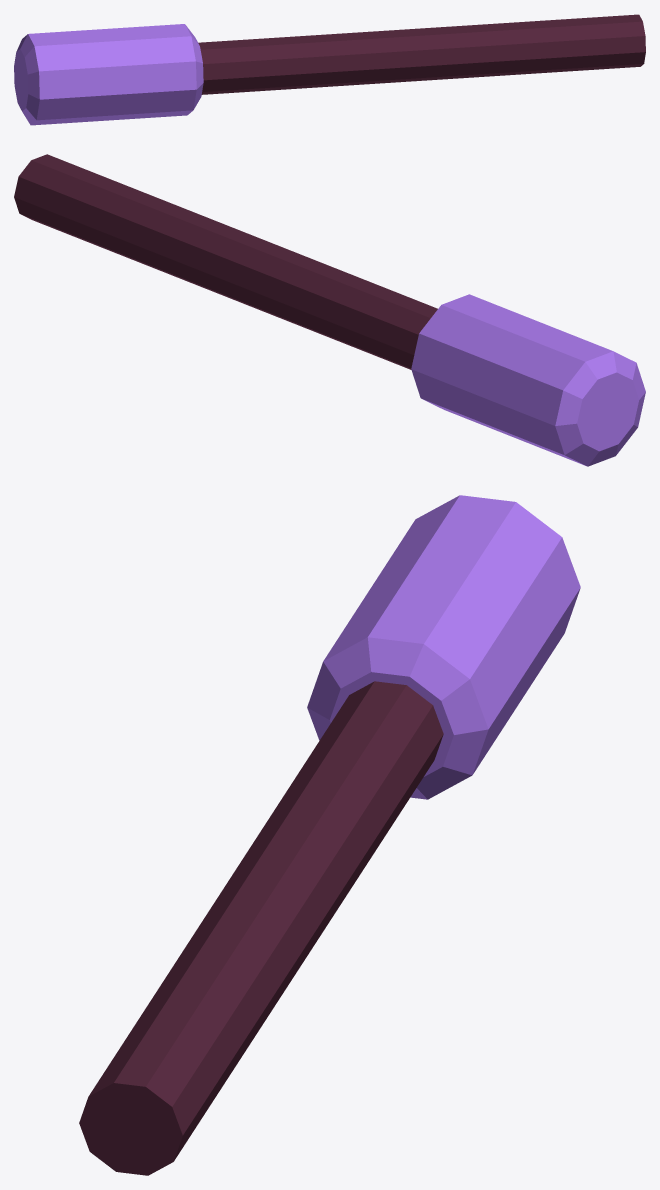
The model's file is torch_001_grp.fbx.
3 renders of one model, top to bottom at view 1: azimuth 30°, elevation 25°; view 2: azimuth 150°, elevation 25°; view 3: azimuth 270°, elevation 25°, orthographic. The views are drawn at different scales.
Parts seen in each view (by area): view 1: torch_001_grp; view 2: torch_001_grp; view 3: torch_001_grp.
Boxes of the visible parts, <box> form: torch_001_grp: <box>14,14,645,125</box>; torch_001_grp: <box>14,154,645,466</box>; torch_001_grp: <box>79,495,580,1175</box>.
Size of the model in its own units: 100 by 15 by 40.
